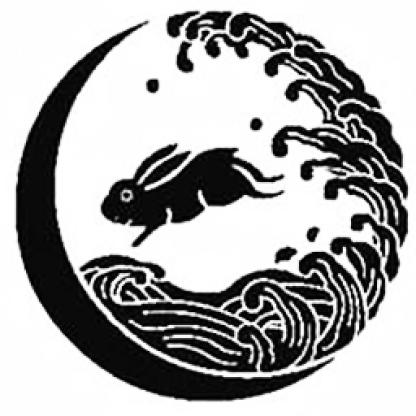kamon: (14, 10, 410, 403)
